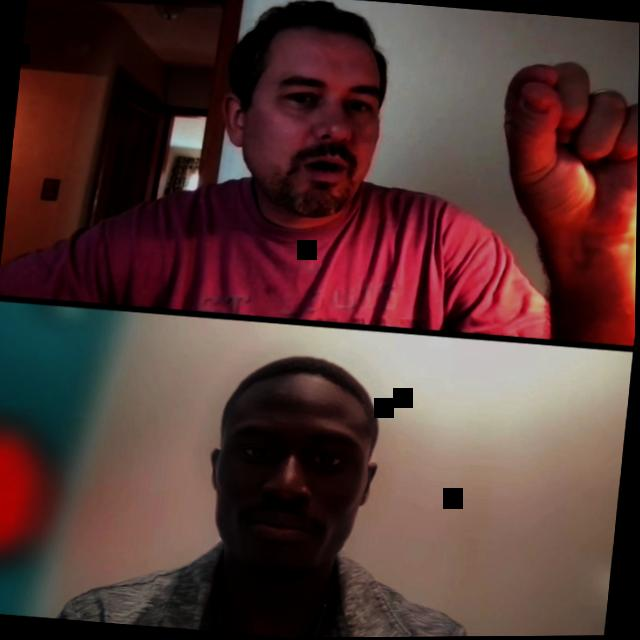NO-Mask: (201, 354, 389, 588), (212, 3, 394, 225)
